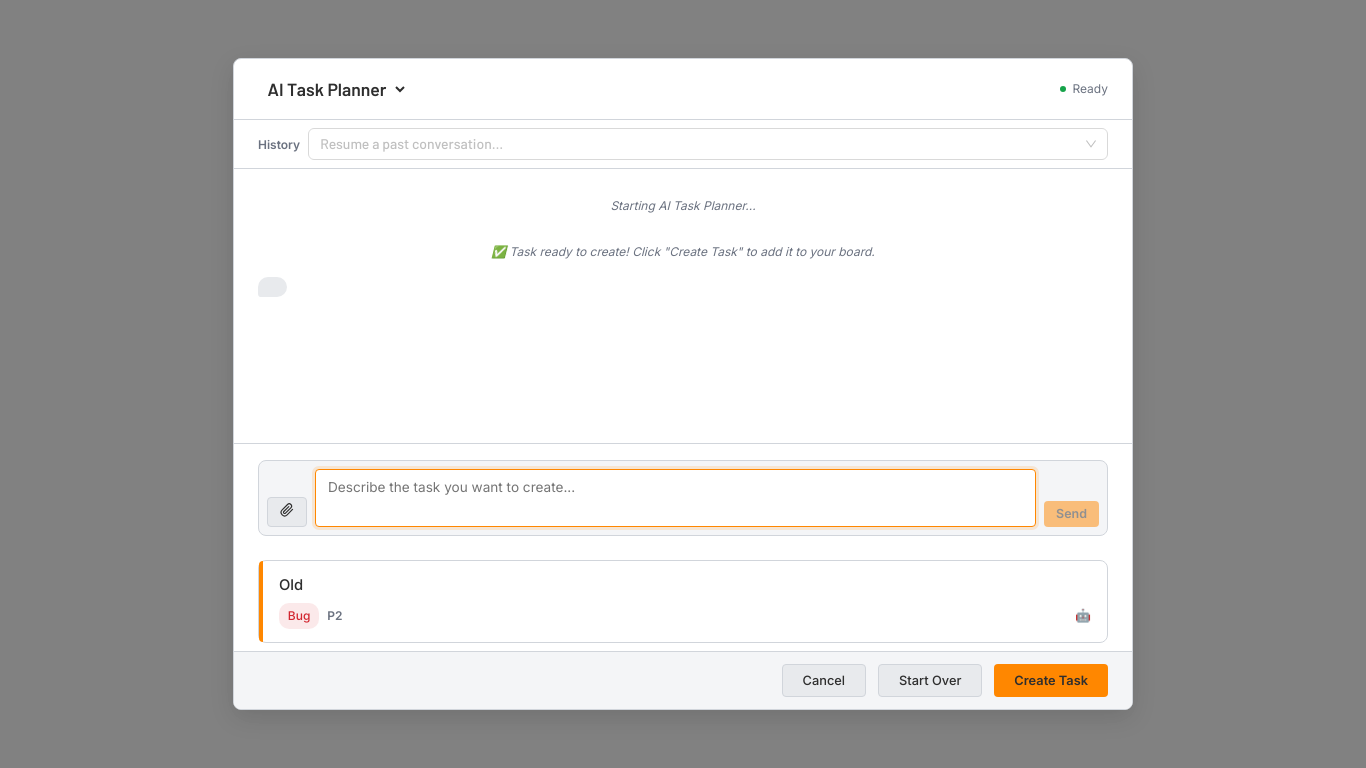
TaskPlannerModal - Start Over button › clicking Start Over DELETEs old session, POSTs a new /start, and clears the transcript
The image size is (1366, 768).
Expected: the text "✅ Task ready to create! Click \"Create Task\" to add it to your board." is shown, x1=491 y1=242 x2=875 y2=260
Expected: the element with class "task-planner-preview" is shown, x1=234 y1=552 x2=1132 y2=651
# Click Start Over.
Click the button "Start Over".
click(930, 681)  # box x1=878 y1=664 x2=982 y2=697
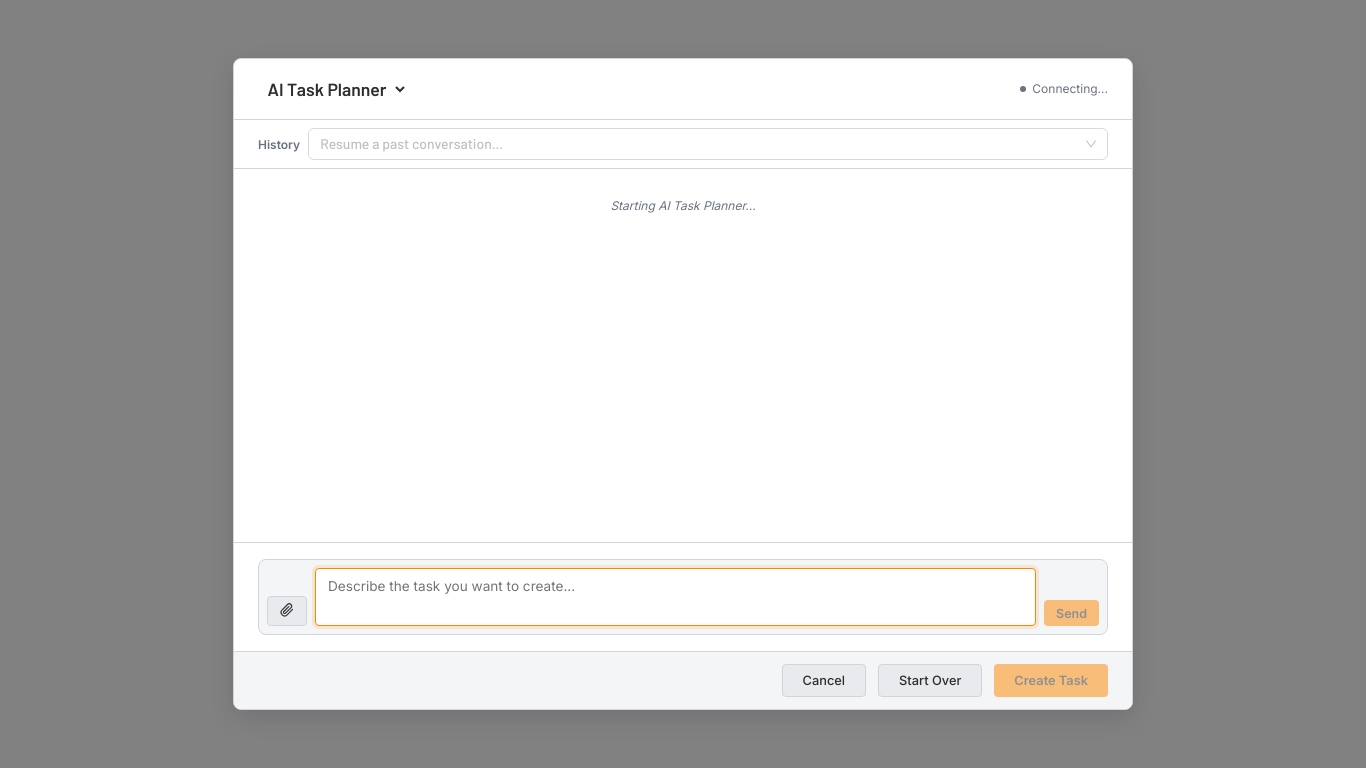
Result: the element with class "task-planner-preview" is gone
Result: the text "✅ Task ready to create! Click \"Create Task\" to add it to your board." is gone
